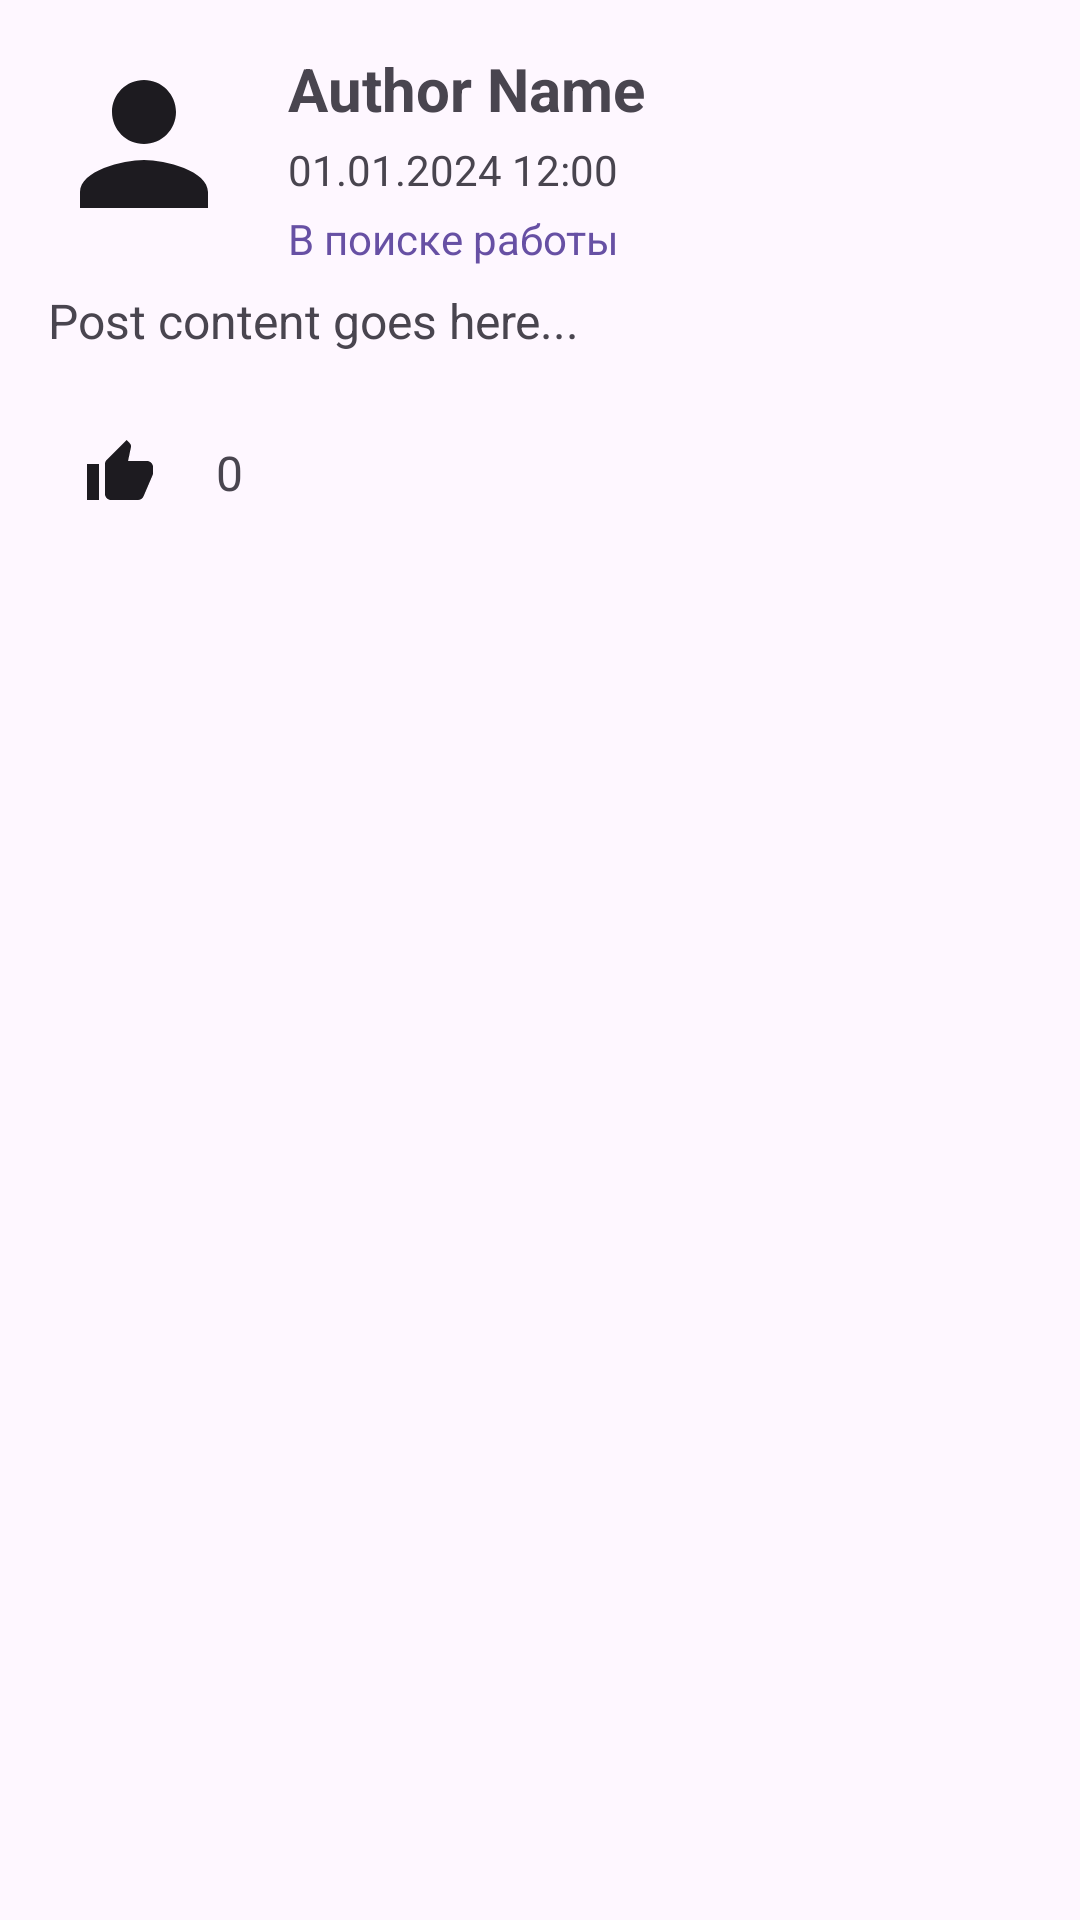

Named icons in this screenshot (1080 x 1920) and their centers, (x=x, y=y):
like: (x=120, y=470)
